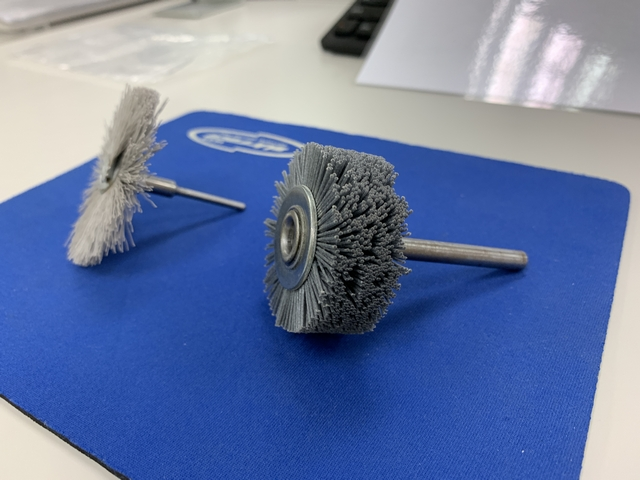TOOL: (61, 73, 253, 272)
Wheel Brush: (256, 137, 545, 339)
